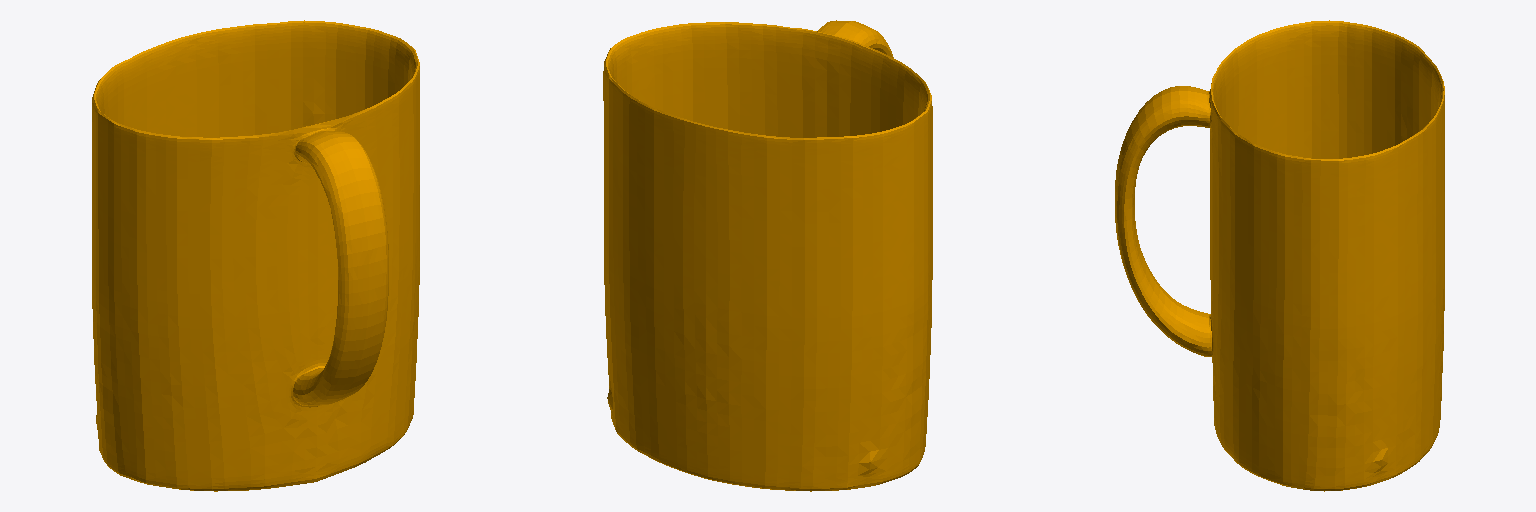
URDF robot description (mug):
<?xml version="1.0"?>
<robot name="mug">
  <link name="mug">
    <visual>
      <origin xyz="0 0 0" rpy="0 0 0"/>
      <geometry>
        <mesh filename="mug.obj" scale="1 1 1"/>
      </geometry>
    </visual>
    <collision>
      <origin xyz="0 0 0" rpy="0 0 0"/>
      <geometry>
        <mesh filename="mug.obj" scale="1 1 1"/>
      </geometry>
    </collision>
    <inertial>
      <origin xyz="0 0 0" rpy="0 0 0"/>
      <mass value="0.05000000"/>
      <inertia ixx="0.0000470833" ixy="0" ixz="0" iyy="0.0000470833" iyz="0" izz="0.0000408333"/>
    </inertial>
  </link>
</robot>

--- Render facts (derived) ---
3 views of the same robot in one strip: view 1: azimuth 30°, elevation 25°; view 2: azimuth 150°, elevation 25°; view 3: azimuth 270°, elevation 25° (orthographic).
Model mug with 1 links and 0 joints (none), rooted at mug, posed every joint at zero.
Visible links, largest first — view 1: mug; view 2: mug; view 3: mug.
Link boxes in pixels (left/top/right/bottom): mug: left=92, top=20, right=419, bottom=491; mug: left=603, top=20, right=932, bottom=491; mug: left=1115, top=20, right=1444, bottom=491.
Size in the robot's own frame: 0.07 by 0.07 by 0.08 metres.
Meshes: 1 distinct files referenced, 1 mesh visuals loaded (1 OBJ).
